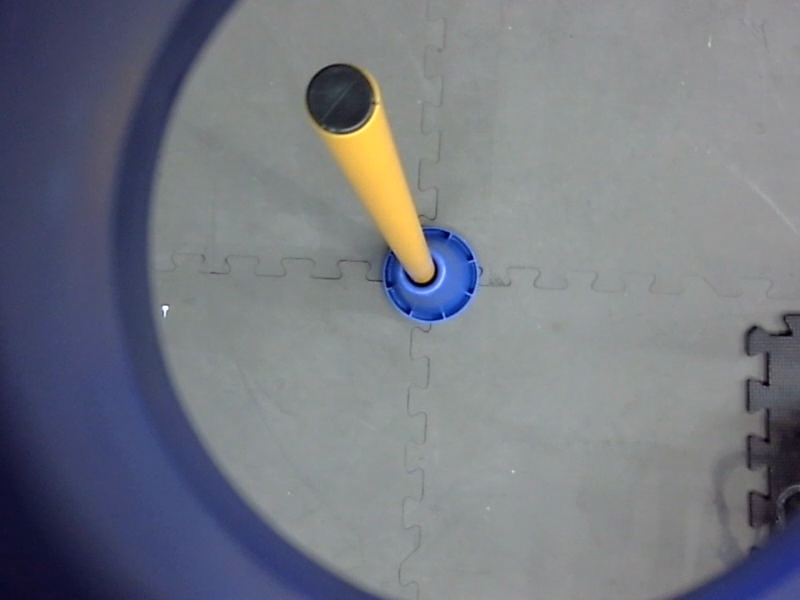tip: (297, 57, 387, 146)
